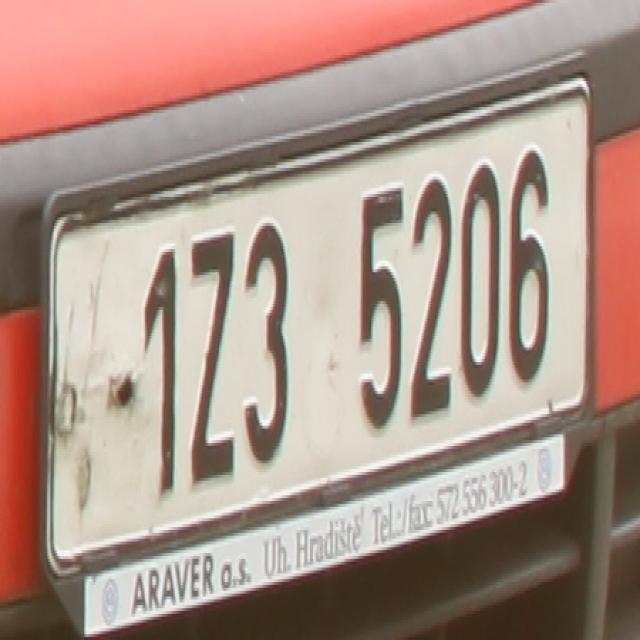0: (457, 159, 502, 400)
1: (144, 246, 184, 495)
2: (411, 171, 449, 431)
3: (244, 214, 288, 466)
5: (356, 182, 401, 423)
6: (505, 145, 547, 382)
Z: (188, 232, 236, 484)
